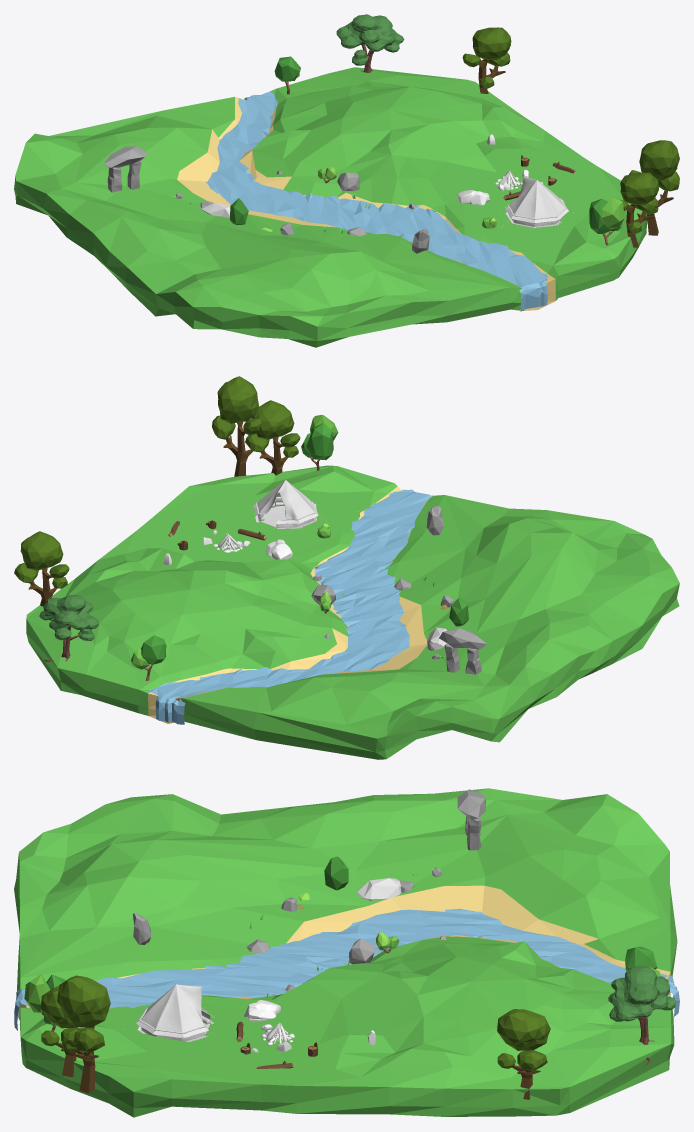
Rendered from Paisaje1.fbx.
3 renders of one model, top to bottom at view 1: azimuth 30°, elevation 25°; view 2: azimuth 150°, elevation 25°; view 3: azimuth 270°, elevation 25°, orthographic. The views are drawn at different scales.
Visible parts, largest first — view 1: Plane.004, Plane.002, Mball.001, mesh_node.001, Tree1.009, Tree1.007, Tree1.008, Cube.080, Cube.051, Cube.046; view 2: Plane.004, Plane.002, Tree1.009, Tree1.007, Tree1.008, mesh_node.001, Mball.001, Cube.080, Cube.051, Cube.046; view 3: Plane.004, Plane.002, Tree1.009, mesh_node.001, Mball.001, Tree1.007, Tree1.008, Cube.080, Cube.051, Icosphere.016, Icosphere.003, Cube.046 (+2 smaller).
Part boxes in pixels (x1,y1,x2,y2): Plane.004: [14, 67, 647, 347]; Plane.002: [206, 92, 548, 311]; Mball.001: [336, 14, 404, 72]; mesh_node.001: [496, 176, 573, 228]; Tree1.009: [629, 140, 679, 235]; Tree1.007: [462, 27, 511, 93]; Tree1.008: [620, 172, 658, 247]; Cube.080: [104, 146, 147, 192]; Cube.051: [589, 197, 624, 245]; Cube.046: [274, 56, 300, 94]; Plane.004: [26, 465, 679, 759]; Plane.002: [147, 489, 432, 724]; Tree1.009: [212, 376, 261, 476]; Tree1.007: [14, 531, 69, 606]; Tree1.008: [245, 400, 300, 475]; mesh_node.001: [247, 480, 327, 530]; Mball.001: [39, 595, 98, 661]; Cube.080: [439, 628, 486, 674]; Cube.051: [301, 415, 338, 470]; Cube.046: [131, 635, 166, 680]; Plane.004: [14, 788, 677, 1117]; Plane.002: [14, 908, 679, 1030]; Tree1.009: [57, 975, 110, 1093]; mesh_node.001: [123, 984, 216, 1041]; Mball.001: [608, 965, 675, 1065]; Tree1.007: [497, 1009, 550, 1099]; Tree1.008: [40, 986, 79, 1077]; Cube.080: [457, 789, 485, 850]; Cube.051: [24, 974, 65, 1031]; Icosphere.016: [357, 878, 401, 900]; Icosphere.003: [324, 856, 348, 890]; Cube.046: [625, 946, 660, 976].
Bounding box in the file's own units: 1902 × 550 × 1845.
